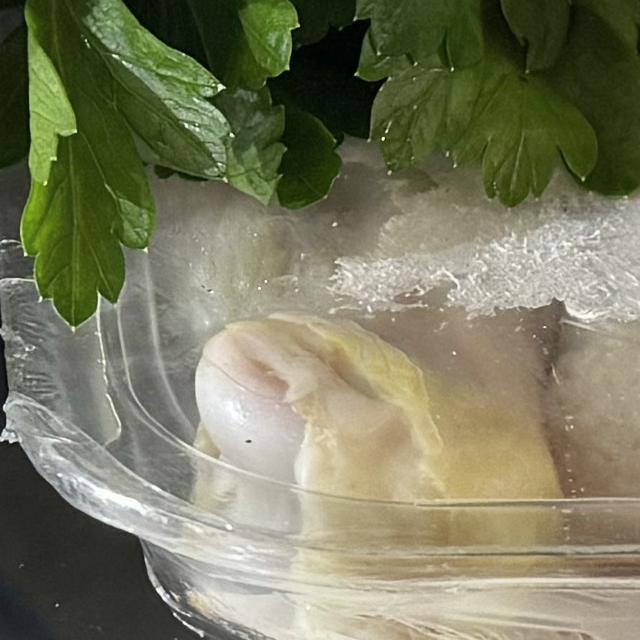chicken: (41, 0, 640, 640)
cilantro: (0, 0, 640, 135)
